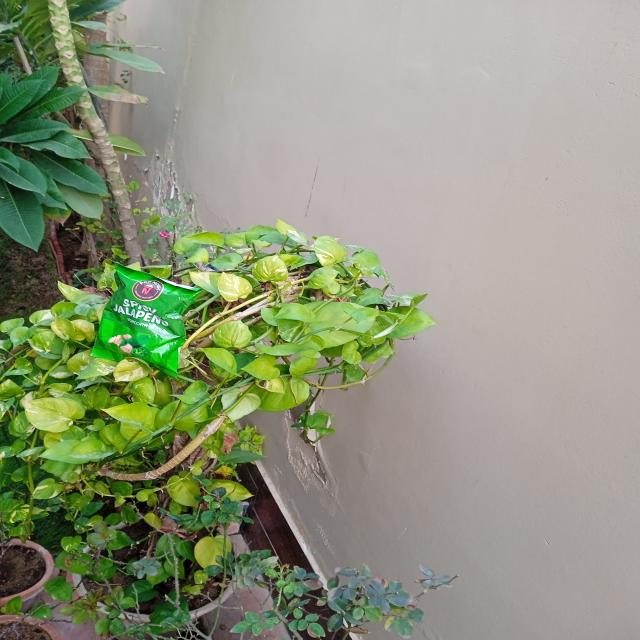Plastic: (84, 264, 211, 382)
